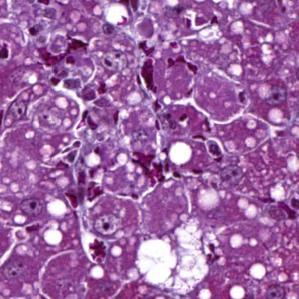ballooning: (134, 216, 213, 295)
